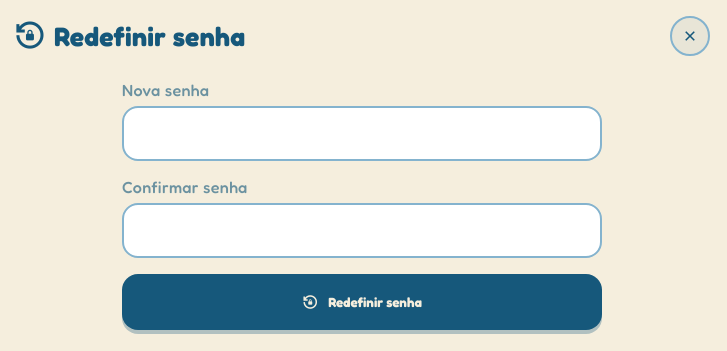
Test: ResetPassword › envia o token e a nova senha
Type "novaSenha123" into the password field labelled "Nova senha" at (362, 134), box [122,106,602,161]
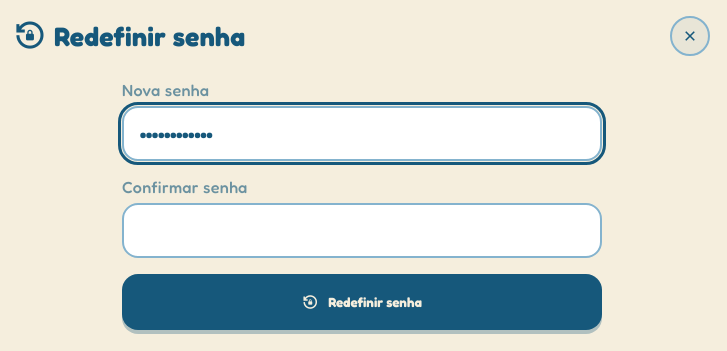
Type "novaSenha123" into the password field labelled "Confirmar senha" at (362, 230), box [122,203,602,258]
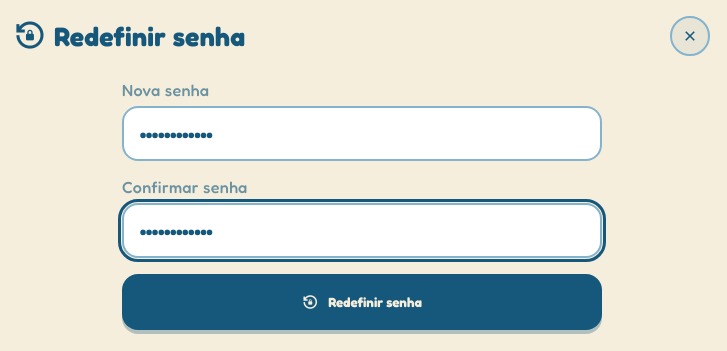
Click the button "Redefinir senha" at (362, 302), box [122,274,602,330]
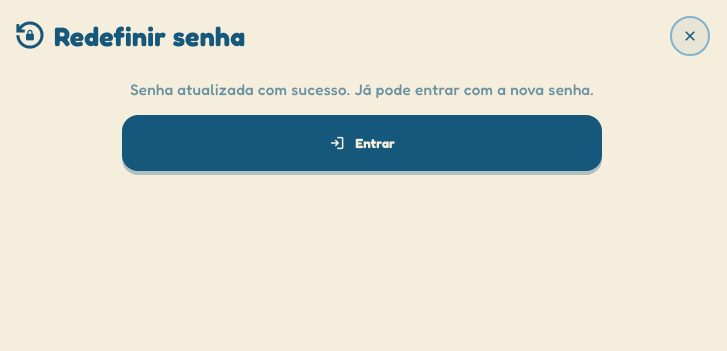
Now the message "Senha atualizada com sucesso. Já pode entrar com a nova senha." is shown, box [122,80,602,99]
